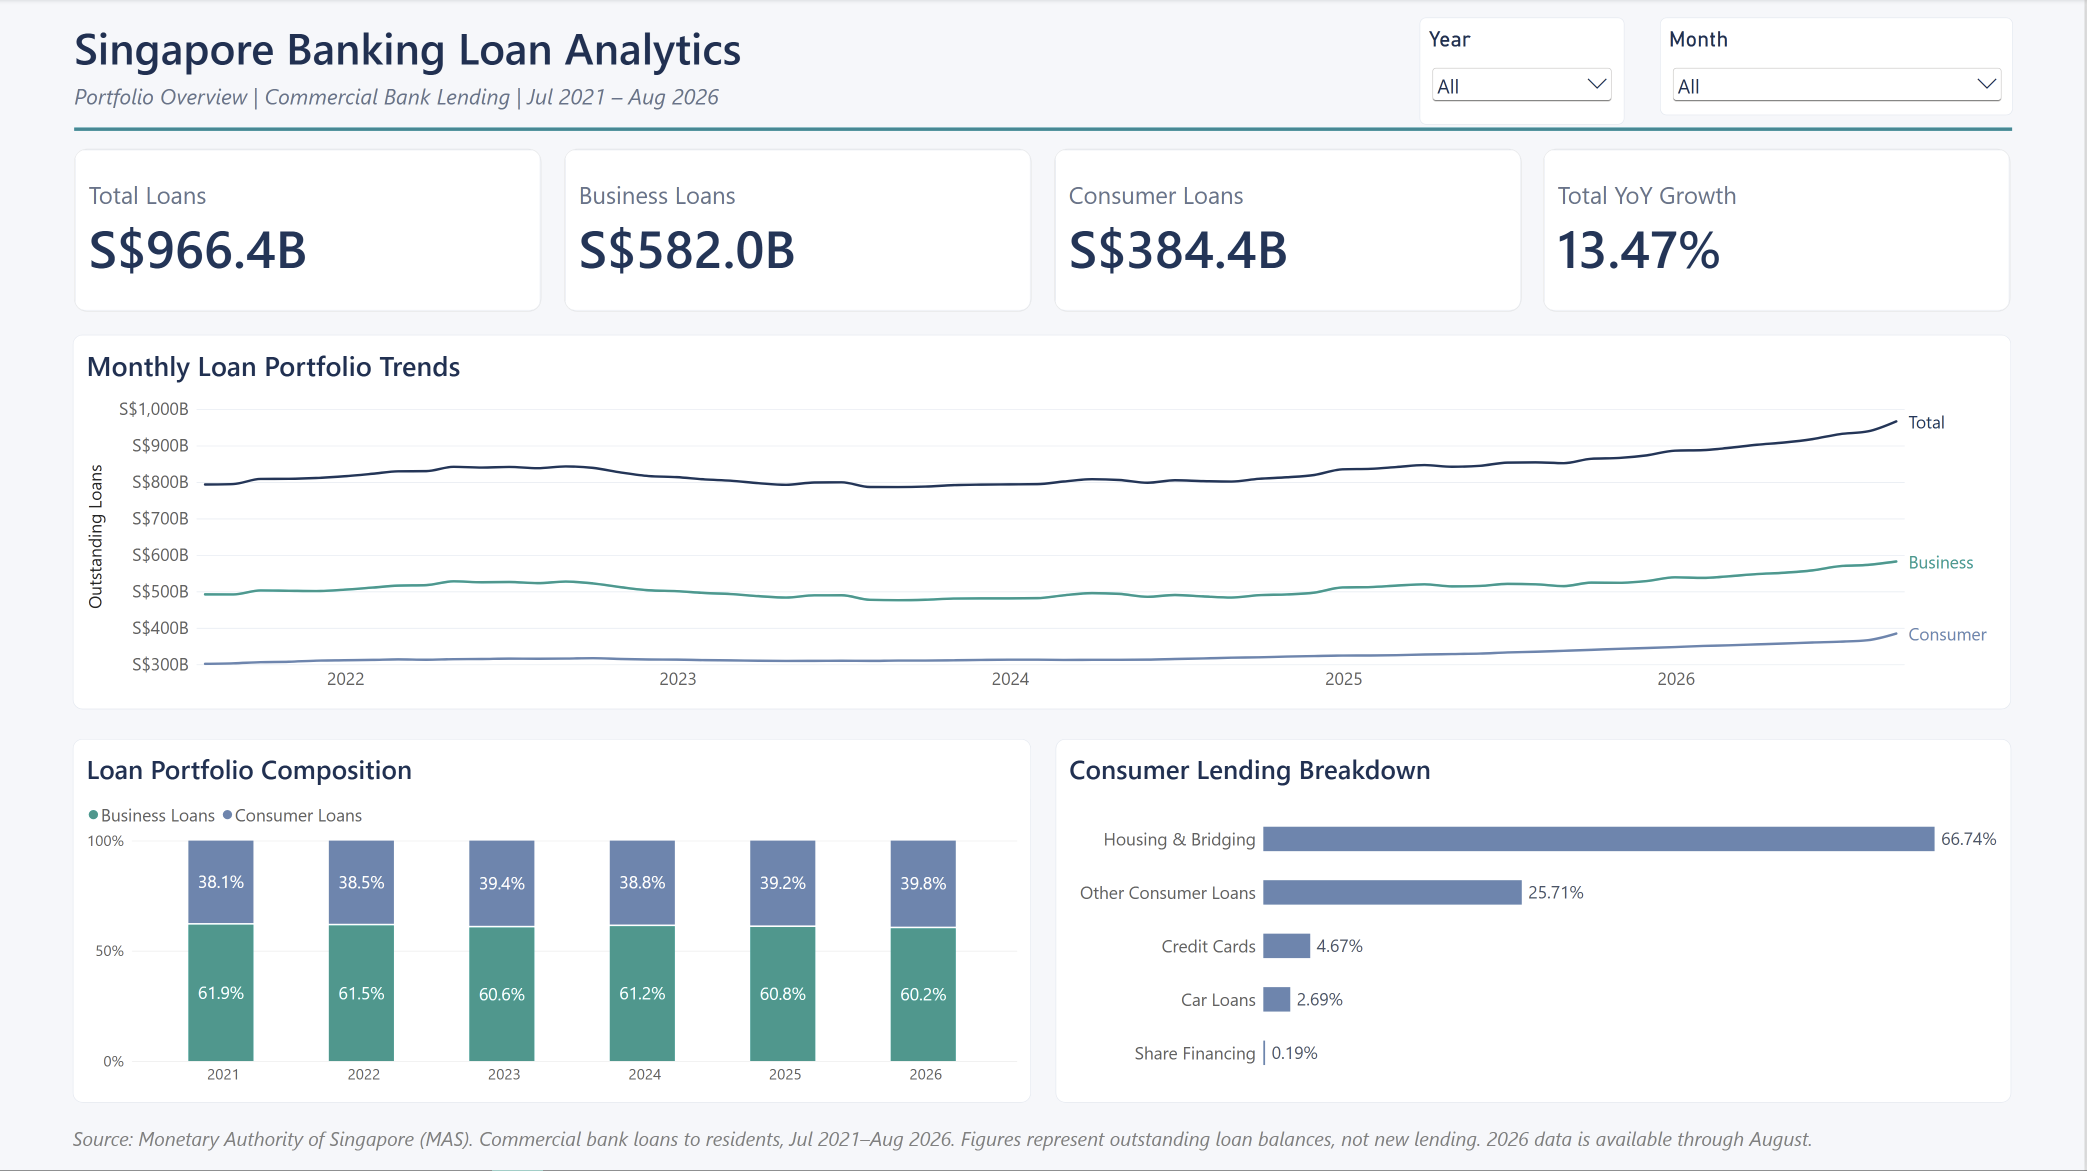

This screenshot's page, from the dashboard's own definition file:
{"tool":"powerbi","page":{"name":"01 Portfolio Overview","canvas":[2560,1440],"ordinal":0},"visuals":[{"type":"textbox","box":[90,65,1900,85],"z":0},{"type":"textbox","box":[92,150,1850,55],"z":1000},{"type":"cardVisual","fields":{"Data":["DimCategory.Total Loans (S$B)"]},"box":[91.2,220,574,200],"z":2000},{"type":"cardVisual","fields":{"Data":["DimCategory.Business Loans (S$B)"]},"box":[692.3,220,574,200],"z":3000},{"type":"cardVisual","fields":{"Data":["FactLoans.Total YoY Growth (%)"]},"box":[1894.4,220,574,200],"z":4000},{"type":"cardVisual","fields":{"Data":["DimCategory.Consumer Loans (S$B)"]},"box":[1295.1,220,574,200],"z":5000},{"type":"slicer","title":"Year","fields":{"Values":["DimMonth.year"]},"box":[1737,75.1,252.2,130.6],"z":6000},{"type":"slicer","title":"Reporting Month","fields":{"Values":["DimMonth.year_month"]},"box":[2037.5,75.1,432.9,130.6],"z":7000},{"type":"lineChart","title":"Monthly Loan Portfolio Trends","fields":{"Category":["DimMonth.period_end"],"Y":["DimCategory.Business Loans (S$B)","DimCategory.Consumer Loans (S$B)","DimCategory.Total Loans (S$B)"]},"box":[89.4,438.3,2379.2,515.2],"z":8000},{"type":"hundredPercentStackedColumnChart","title":"Loan Portfolio Composition by Year","fields":{"Category":["DimMonth.year"],"Y":["FactLoans.Business Loans (S$M)","FactLoans.Consumer Loans (S$M)"]},"box":[89.4,978.5,1177.1,425.7],"z":9000},{"type":"clusteredBarChart","title":"Consumer Lending Breakdown","fields":{"Category":["DimCategory.display_name"],"Y":["FactLoans.Consumer Category Share (%)"]},"box":[1295.1,978.5,1175.3,425.7],"z":10000}]}

Visuals, with their boxes in screenshot pixels (x1, y1, x2, y2), scaled from the page's 2560x1440 canvas onto the 2087x1171 screenshot:
textbox: bbox=[73, 53, 1622, 122]
textbox: bbox=[75, 122, 1583, 167]
cardVisual - DimCategory.Total Loans (S$B): bbox=[74, 179, 542, 342]
cardVisual - DimCategory.Business Loans (S$B): bbox=[564, 179, 1032, 342]
cardVisual - FactLoans.Total YoY Growth (%): bbox=[1544, 179, 2012, 342]
cardVisual - DimCategory.Consumer Loans (S$B): bbox=[1056, 179, 1524, 342]
"Year" slicer: bbox=[1416, 61, 1622, 167]
"Reporting Month" slicer: bbox=[1661, 61, 2014, 167]
"Monthly Loan Portfolio Trends" lineChart: bbox=[73, 356, 2012, 775]
"Loan Portfolio Composition by Year" hundredPercentStackedColumnChart: bbox=[73, 796, 1032, 1142]
"Consumer Lending Breakdown" clusteredBarChart: bbox=[1056, 796, 2014, 1142]
